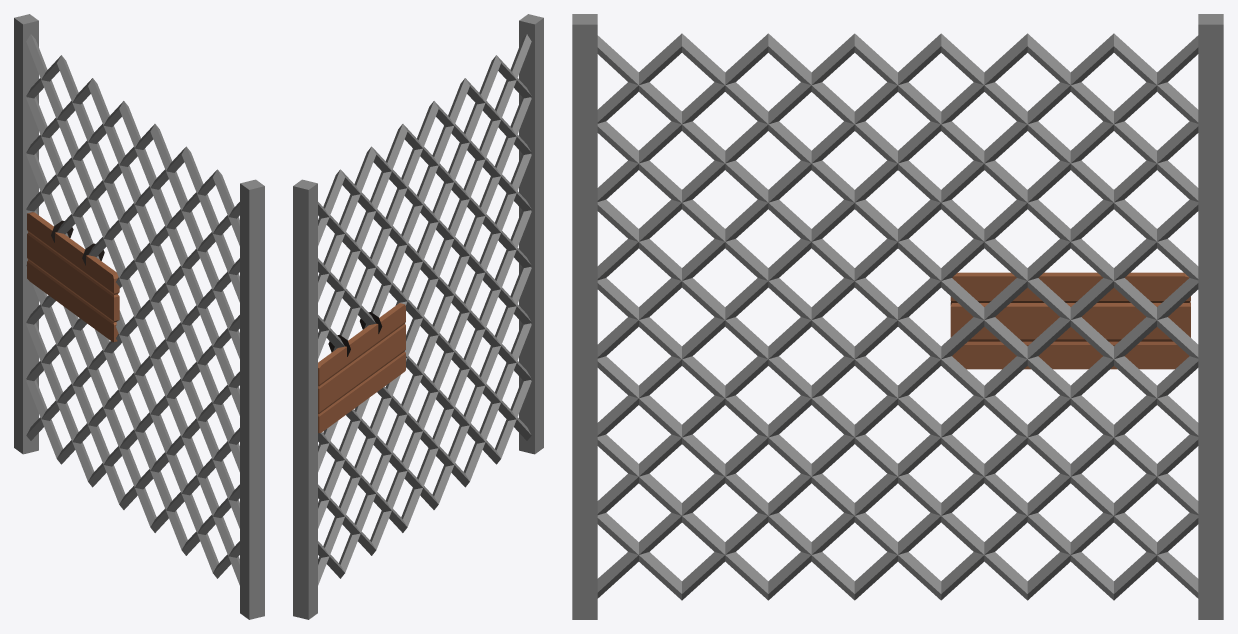
File: Grille_Poubelle.fbx
3 renders of one model, left to right at view 1: azimuth 30°, elevation 25°; view 2: azimuth 150°, elevation 25°; view 3: azimuth 270°, elevation 25°, orthographic. The views are drawn at different scales.
Parts seen in each view (by area): view 1: Barre.002; view 2: Barre.002; view 3: Barre.002.
Boxes of the visible parts, bbox=[...] form: Barre.002: bbox=[14, 14, 264, 619]; Barre.002: bbox=[293, 14, 543, 619]; Barre.002: bbox=[572, 14, 1223, 619].
Size of the model in its own units: 12.02 by 217 by 215.
